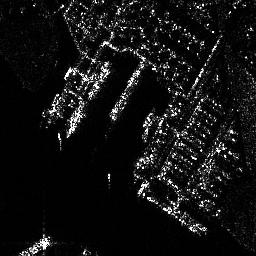ship: (66, 112, 84, 139)
